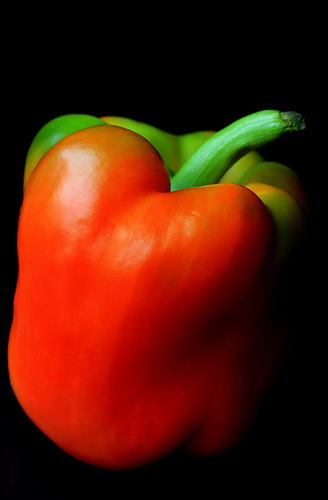capsicum: (7, 110, 305, 472)
